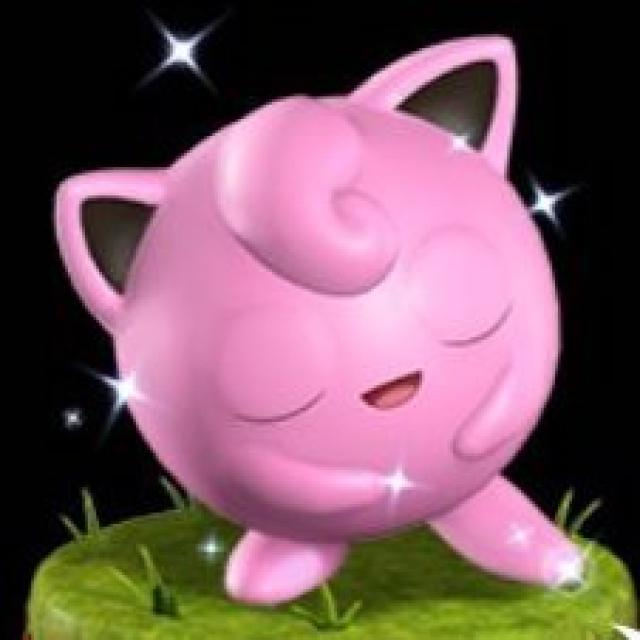Jigglypuff: (69, 35, 602, 610)
